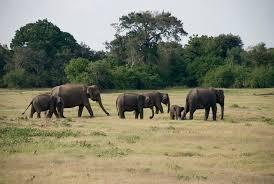elephant: (116, 88, 223, 119), (22, 84, 108, 117)
